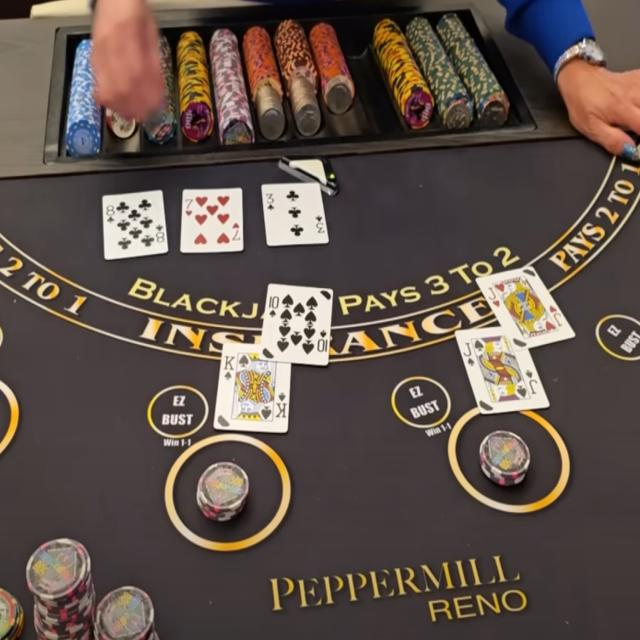10: (268, 293, 279, 310)
3: (264, 192, 275, 205)
7: (184, 197, 193, 210)
8: (104, 204, 116, 217)
J: (461, 341, 472, 357), (486, 286, 497, 300)
K: (223, 354, 235, 372)
